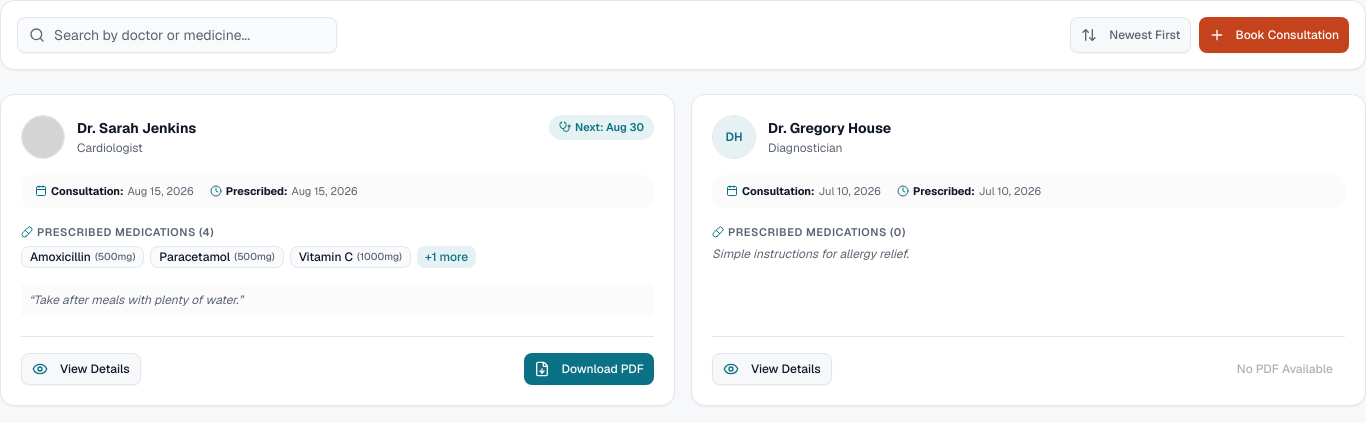
Test case: PatientPrescriptionsList › toggles sorting order between Newest First and Oldest First
Expected: the heading "Dr. Sarah Jenkins" is shown, [77, 119, 196, 137]
Click the button "Newest First" at (1131, 35), box [1070, 17, 1191, 53]
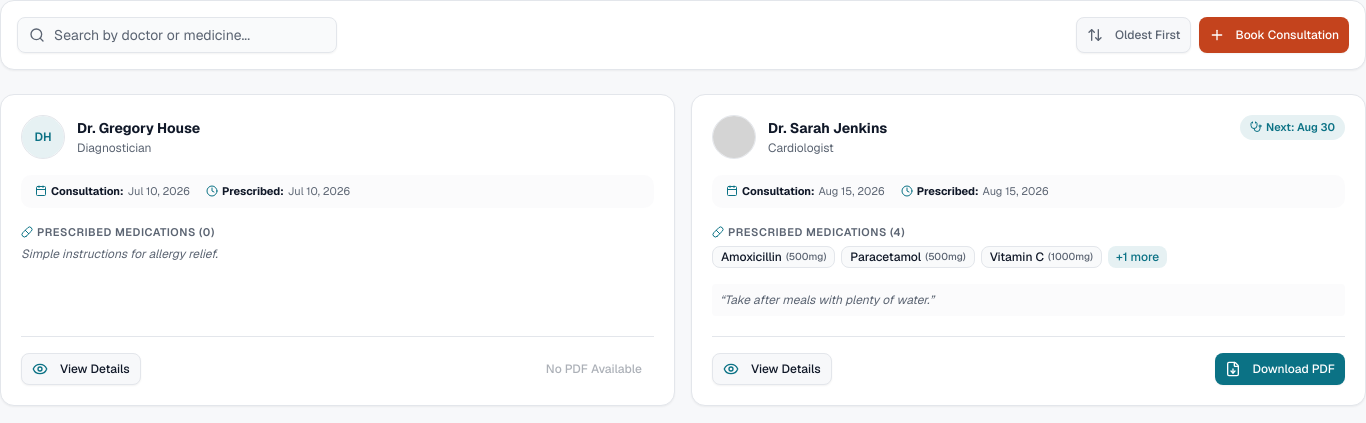
Expected: the button "Oldest First" is shown, [1076, 17, 1191, 53]
